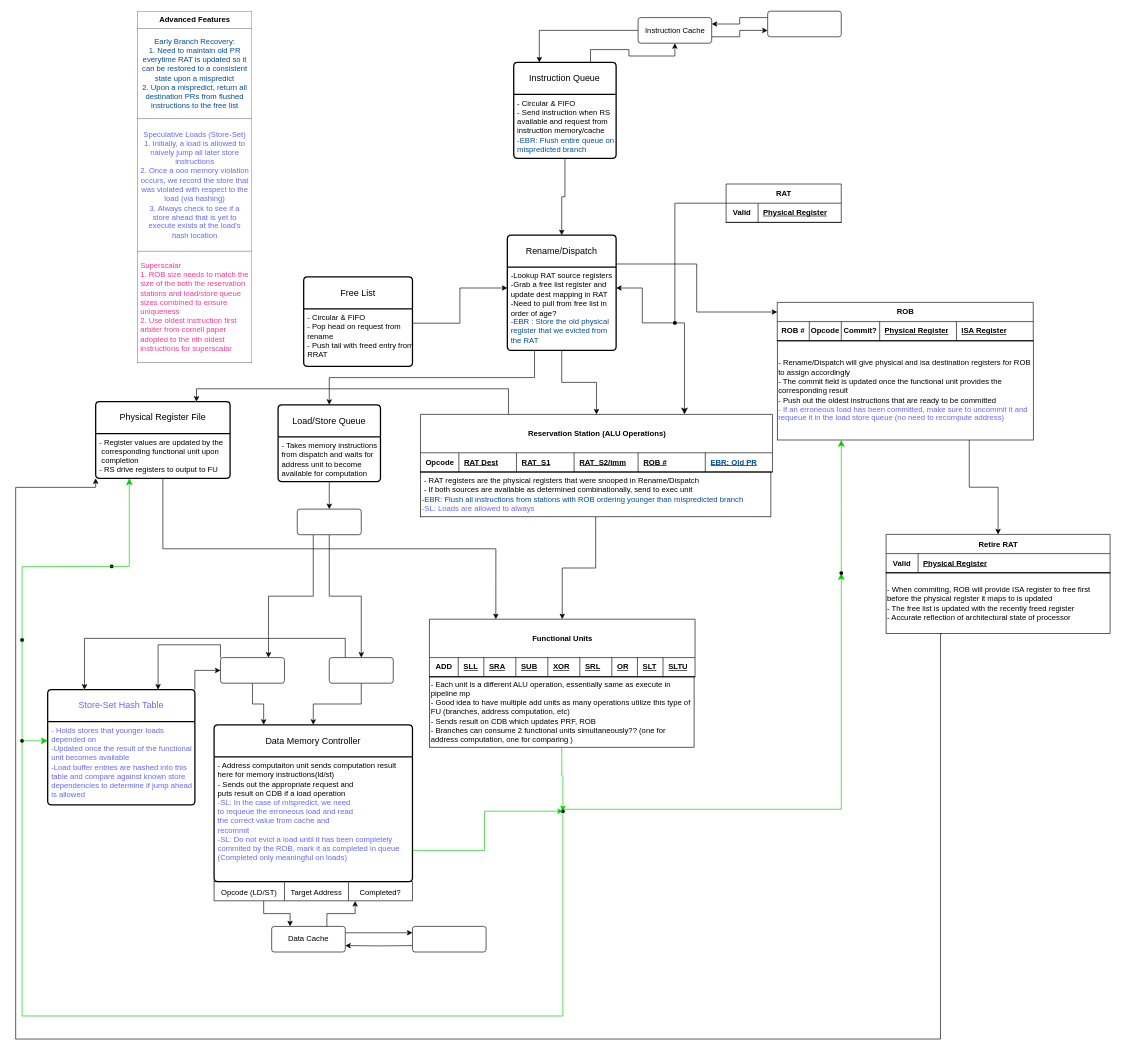
Some shapes in this 1121 by 1055 pixel diagram are drawn without their labels. The centre of each missing label's shape, as x and y in pixels:
"Address Computation Unit" belongs at pixel 329 521.
"Data Memory" belongs at pixel 449 939.
"Instruction Memory" belongs at pixel 804 24.
"Load Buffer" belongs at pixel 252 670.
"Store Buffer" belongs at pixel 361 670.
